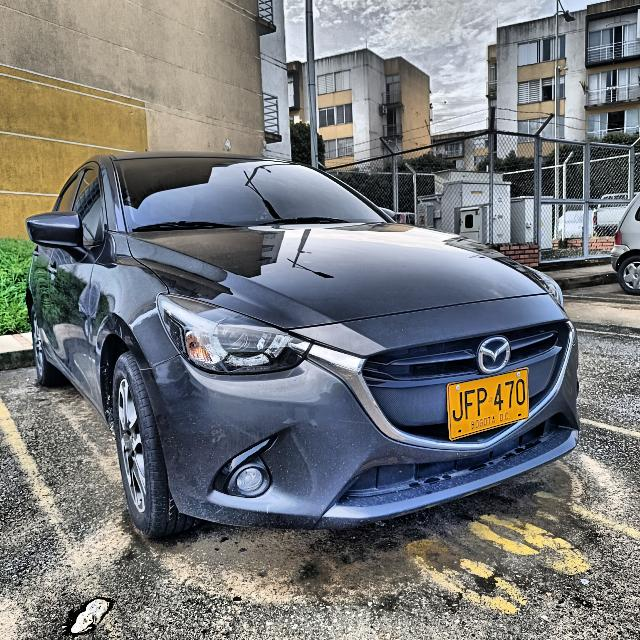plate: (448, 368, 528, 439)
